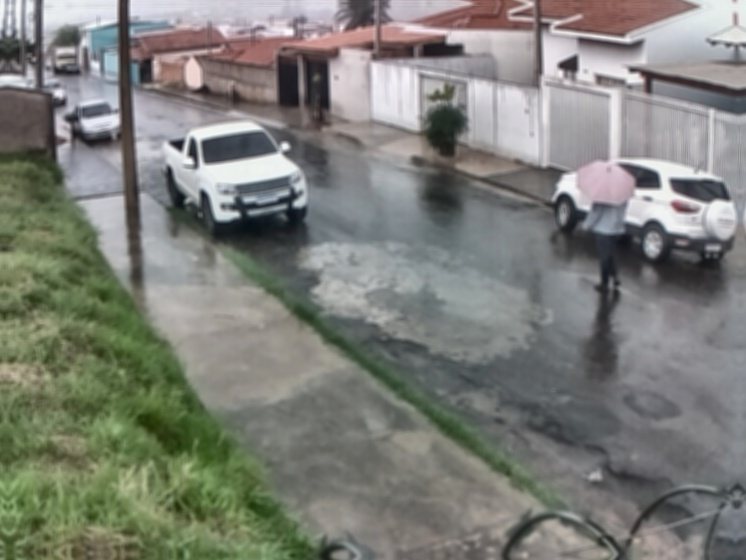person: (583, 201, 628, 296)
